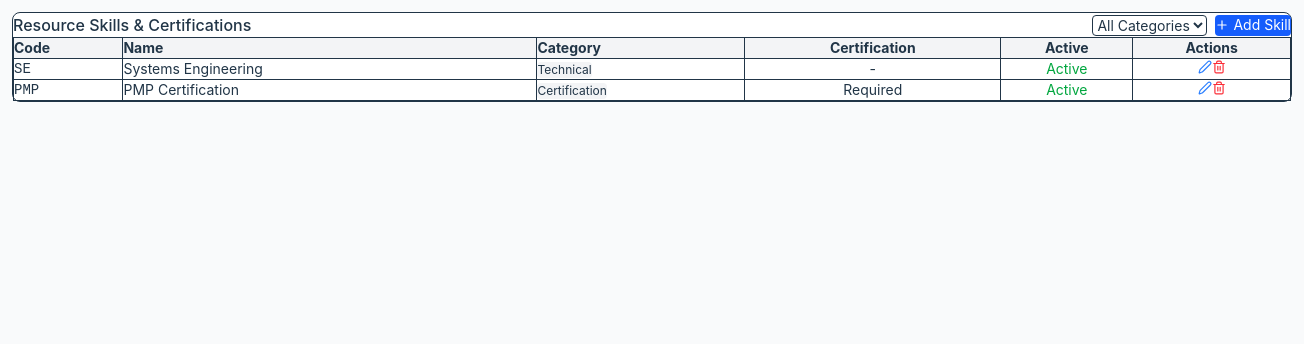
SkillsPanel › cancels form
The image size is (1304, 344).
Click the button "Add Skill" at (1253, 25), box [1215,14,1291,36]
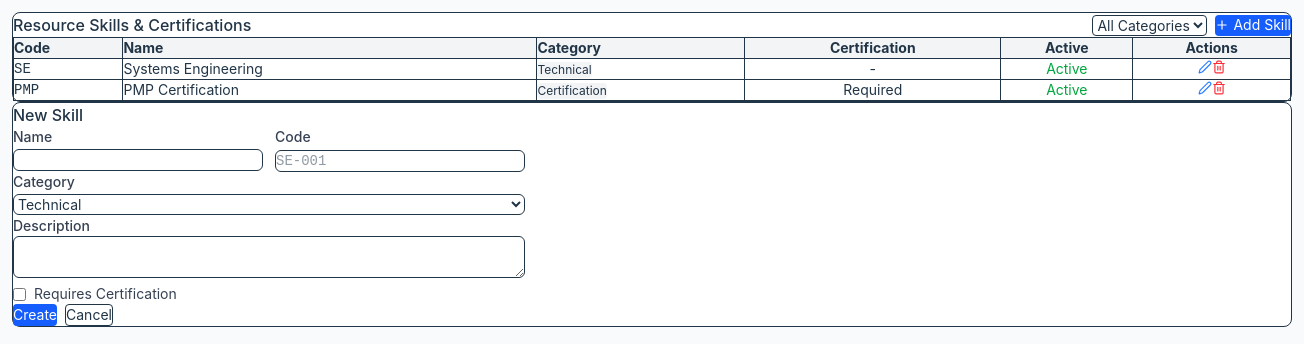
Expected: the heading "New Skill" is shown, [13,105,83,125]
Click the button "Cancel" at (89, 315), box [65,304,113,326]
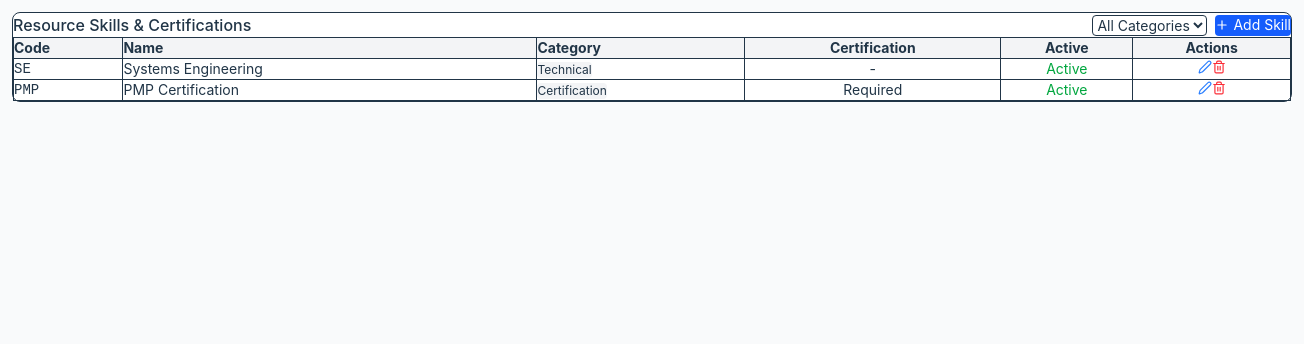
Expected: the heading "New Skill" is gone
